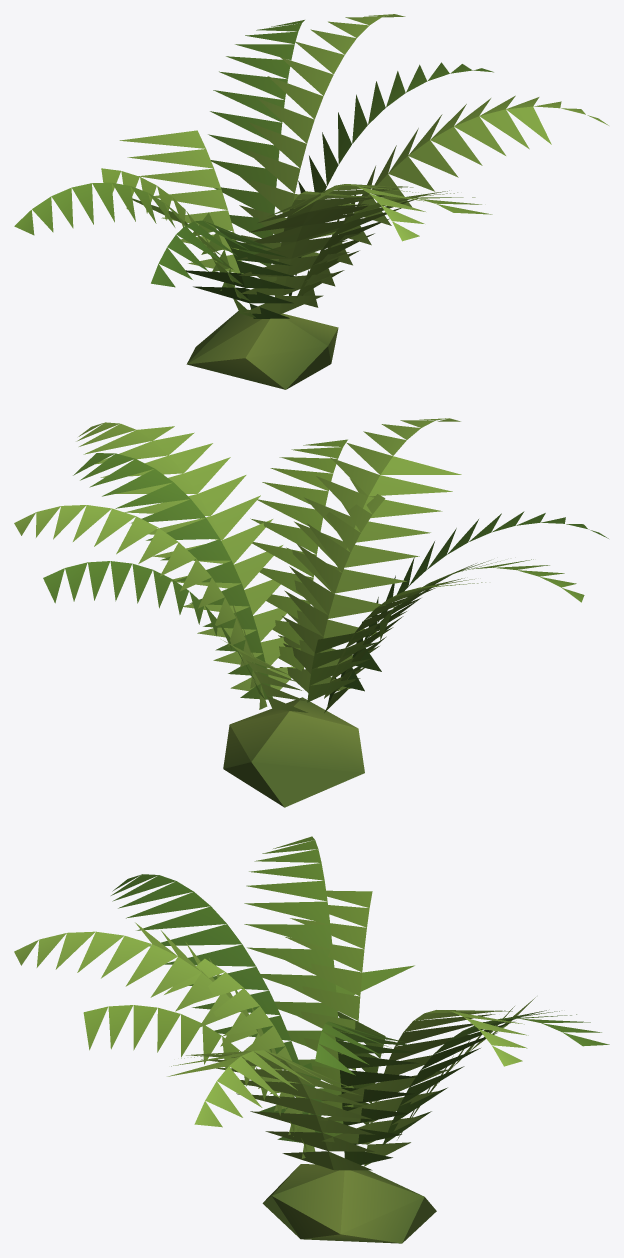
File: wf_fern-lod1.glb
The picture shows the model from 3 angles, top to bottom: view 1: azimuth 30°, elevation 25°; view 2: azimuth 150°, elevation 25°; view 3: azimuth 270°, elevation 25°; orthographic projection. The views are drawn at different scales.
Parts seen in each view (by area): view 1: wf_fern; view 2: wf_fern; view 3: wf_fern.
Boxes of the visible parts, x1,y1,x2,y2 form: wf_fern: (14, 14, 608, 389); wf_fern: (14, 418, 608, 807); wf_fern: (14, 836, 609, 1243).
Size of the model in its own units: 1.54 by 0.7232 by 1.33.
